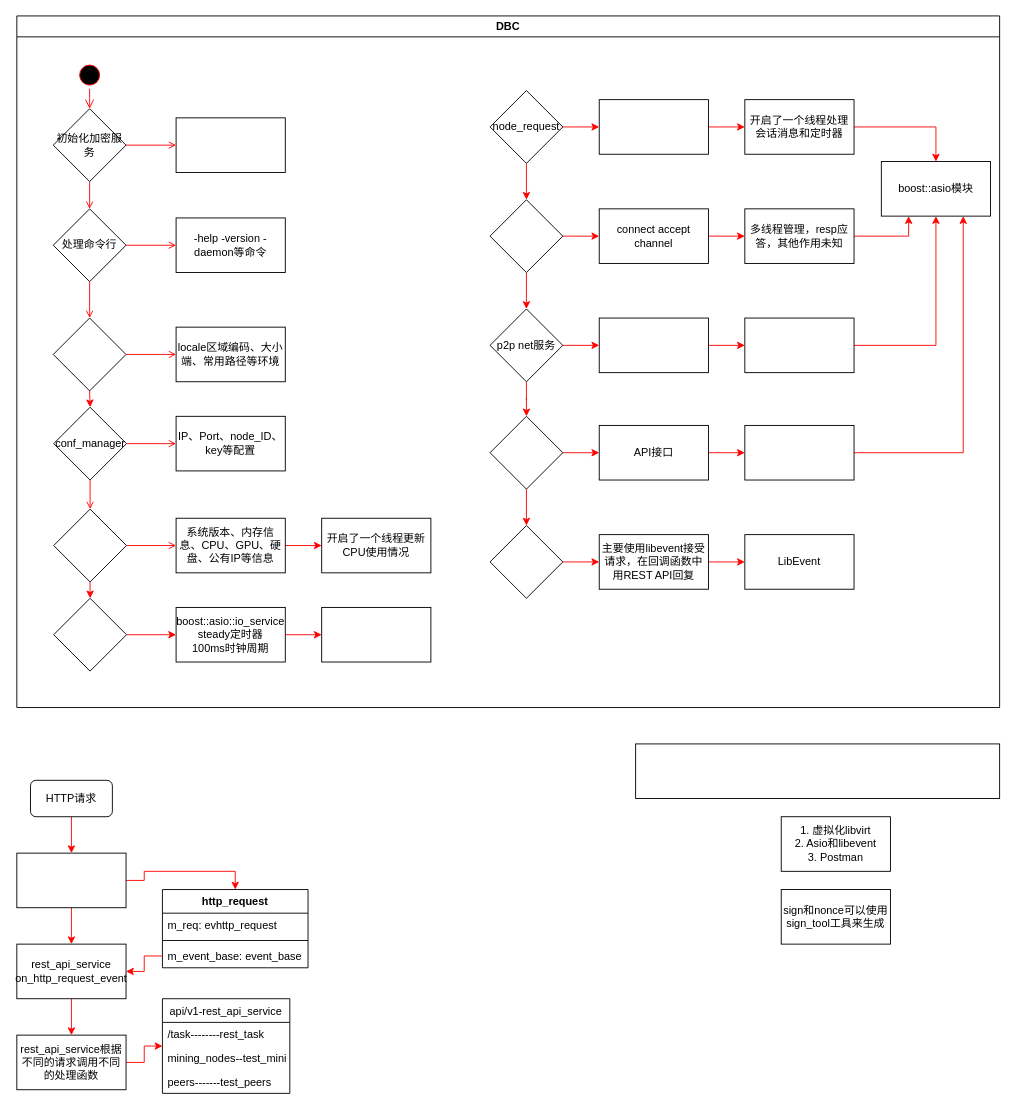
This 1016x1112 diagram has some shape labels left out. The centre of each missing label's shape, as x and y in pixels:
"1. 为什么有这么多服务？为什么不合并到一个服务？ 2. 每个服务都在处理什么事情？有什么区别？ 3. Asio和libevent应用场景有什么区别？" belongs at point (817, 771).
"connect_manager" belongs at point (526, 236).
"env_manager" belongs at point (89, 354).
"http_server_service libevent回调函数" belongs at point (71, 880).
"http服务" belongs at point (526, 561).
"node任务管理、websocket客户端请求和会话" belongs at point (653, 126).
"openssl和secp256k1的加密服务" belongs at point (230, 144).
"rest api服务" belongs at point (526, 452).
"SystemInfo" belongs at point (89, 545).
"timer_matrix" belongs at point (89, 634).
"创建了用于io service的线程" belongs at point (376, 634).
"处理API请求" belongs at point (799, 452).
"点对点网络，交换信息" belongs at point (653, 345).
